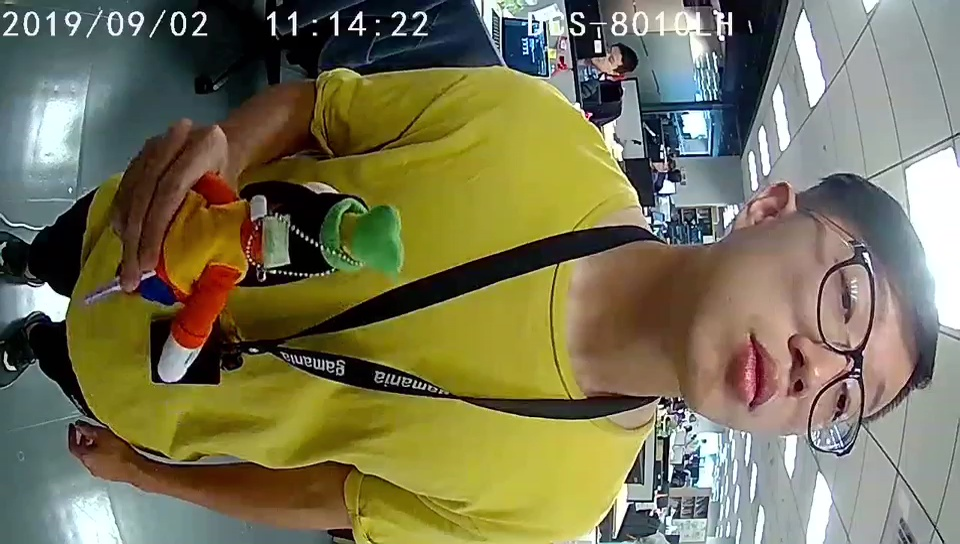goofy: (157, 186, 407, 383)
